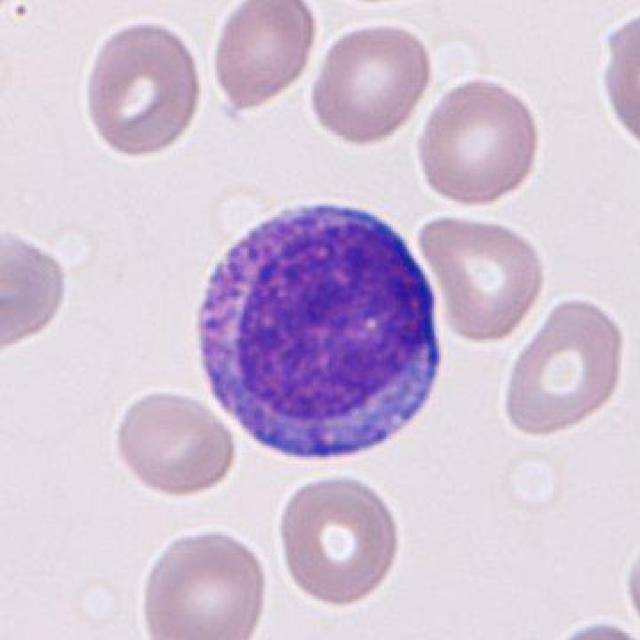RBC: (498, 291, 633, 441), (274, 469, 405, 614), (78, 14, 206, 162), (414, 210, 550, 345), (411, 73, 544, 208), (308, 18, 436, 149), (135, 522, 270, 640), (110, 386, 237, 501), (210, 2, 320, 114), (0, 218, 73, 362), (597, 3, 640, 162), (618, 505, 640, 640), (530, 614, 640, 638)
